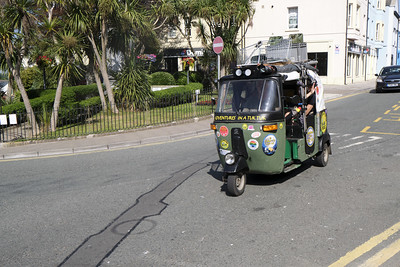car: (374, 65, 399, 93)
threewheel: (208, 60, 332, 197)
